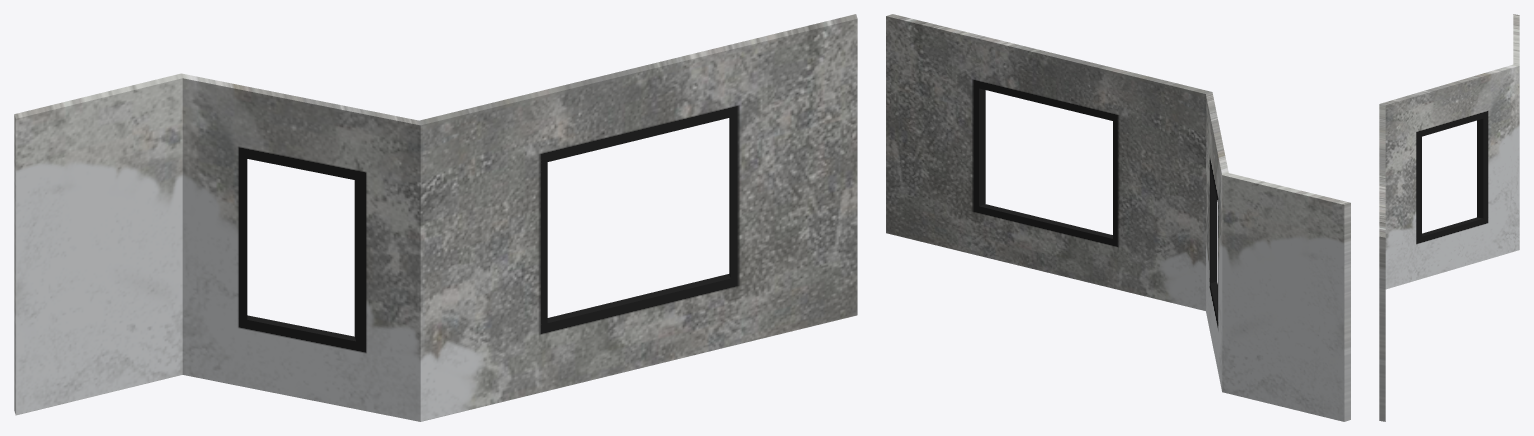
File: LeftWall.fbx
3 views of the same model, side by side, from view 1: azimuth 30°, elevation 25°; view 2: azimuth 150°, elevation 25°; view 3: azimuth 270°, elevation 25° (orthographic). The views are drawn at different scales.
Visible parts, largest first — view 1: Plane.001; view 2: Plane.001; view 3: Plane.001.
Part boxes in pixels (x1,y1,x2,y2): Plane.001: [14, 14, 857, 421]; Plane.001: [886, 14, 1350, 421]; Plane.001: [1379, 14, 1519, 421].
Size of the model in its own units: 2283 by 877 by 606.
